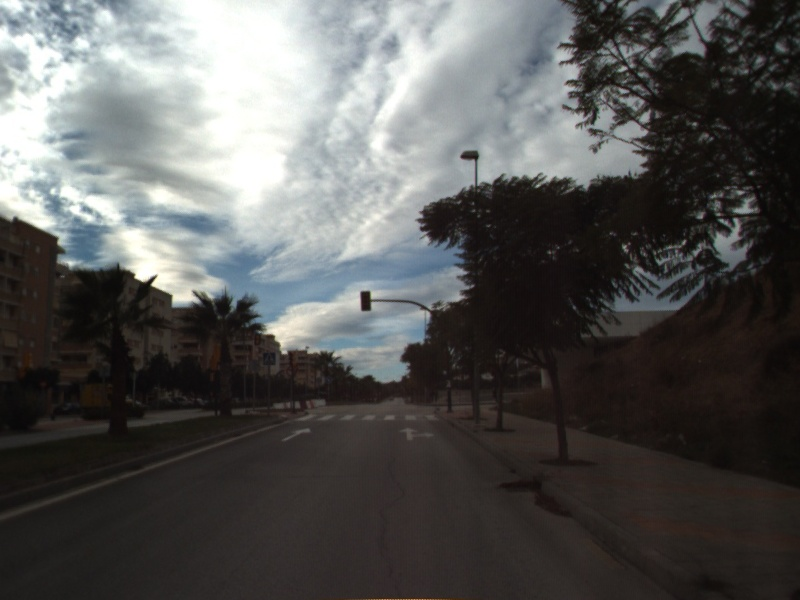STRAIGHT: (280, 426, 314, 443)
STRAIGHT_RIGHT: (396, 425, 437, 442)
